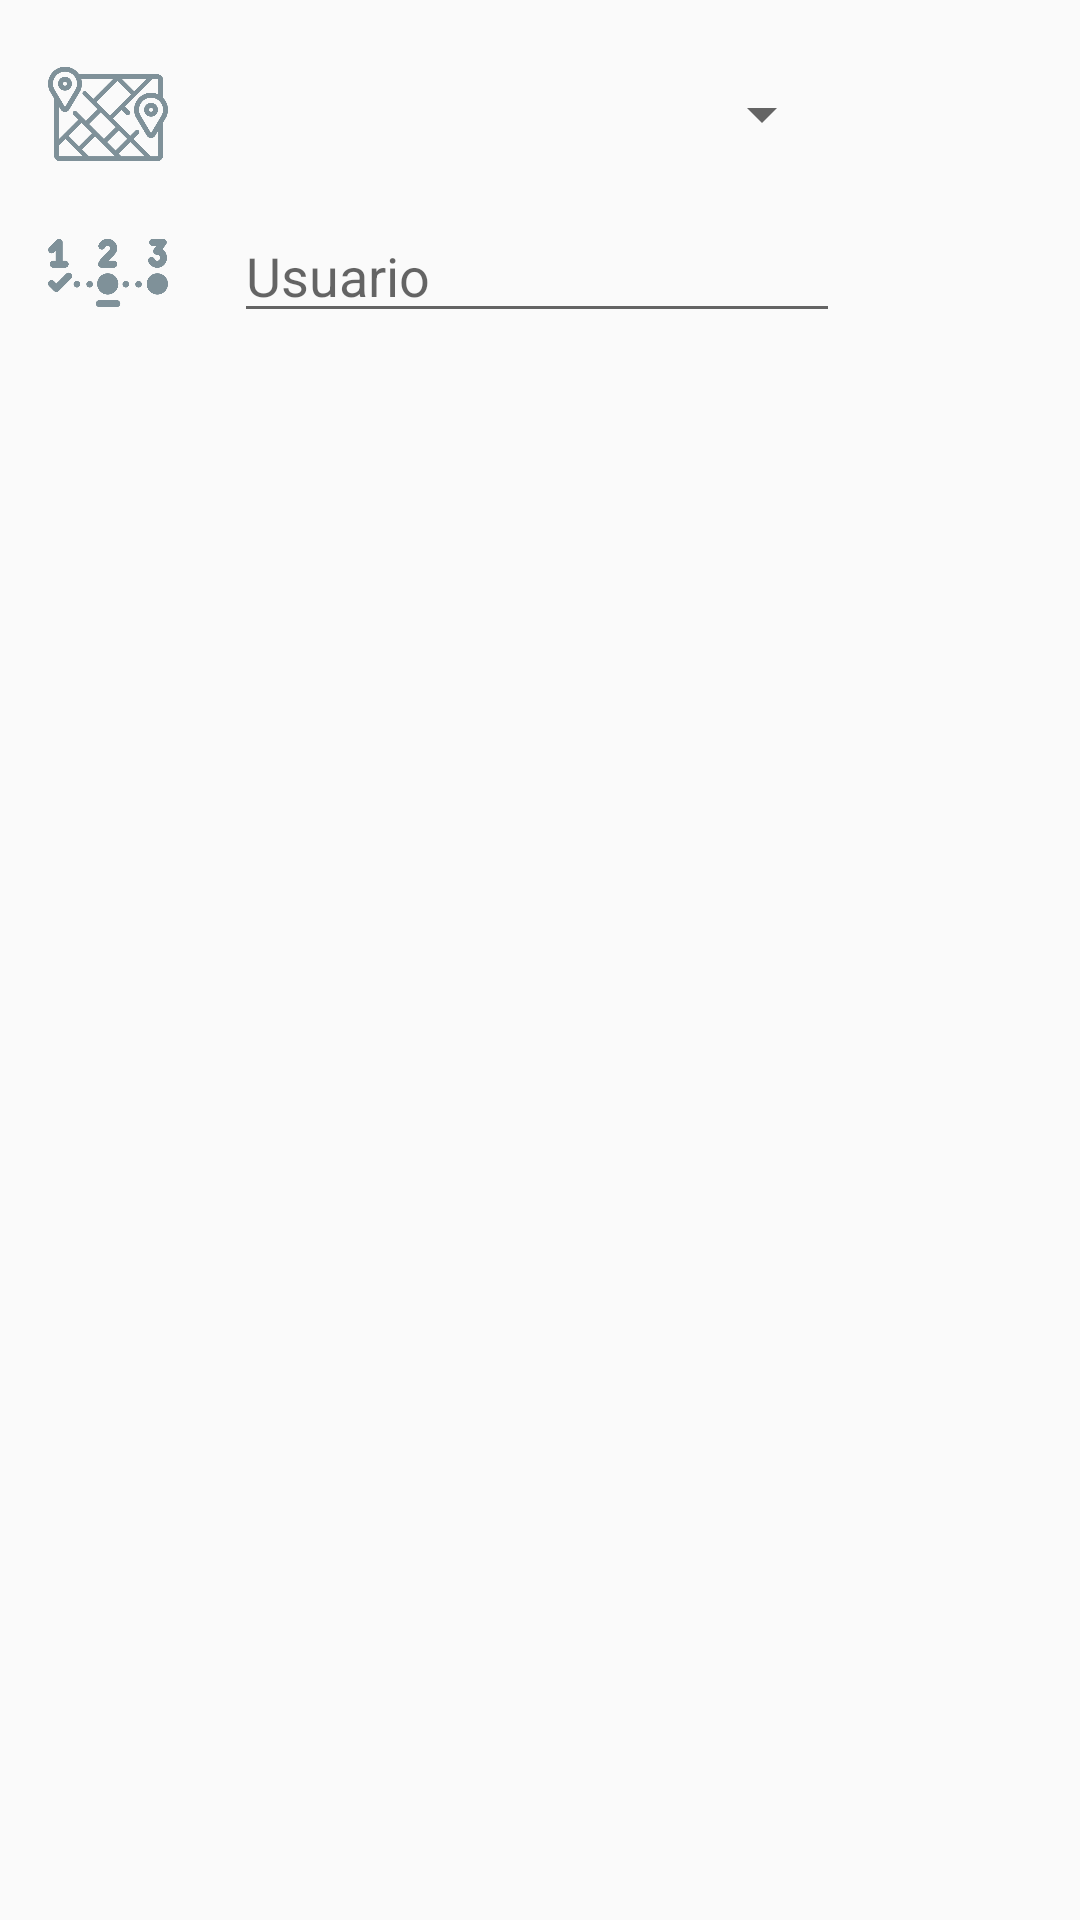

Icon bounding boxes for this 1080*1920 phone screenshot, format (x1, y1, x2, y2):
sector: (48, 67, 168, 161)
